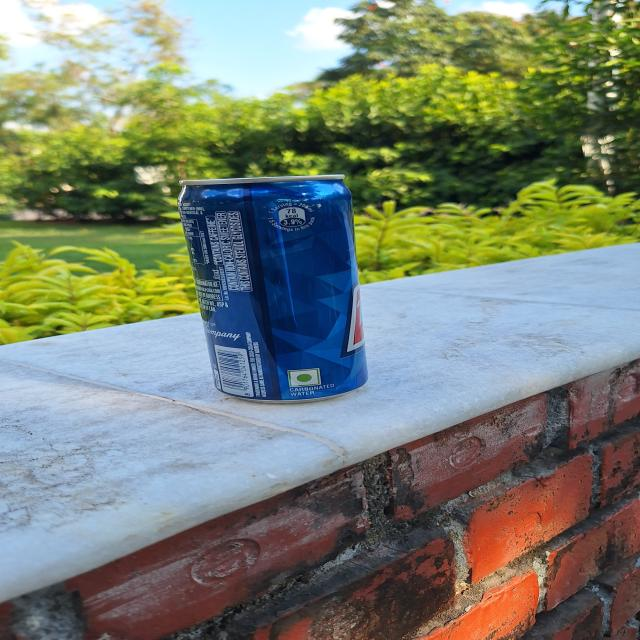Thums Up: (182, 178, 374, 404)
